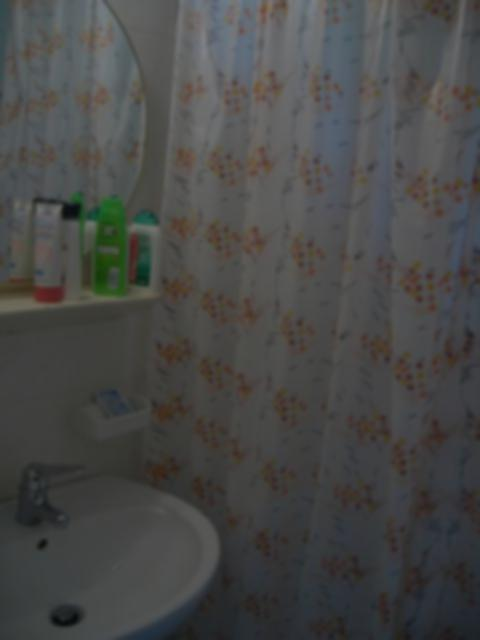Ducha: (162, 0, 479, 639)
Lavamanos: (0, 457, 206, 639)
